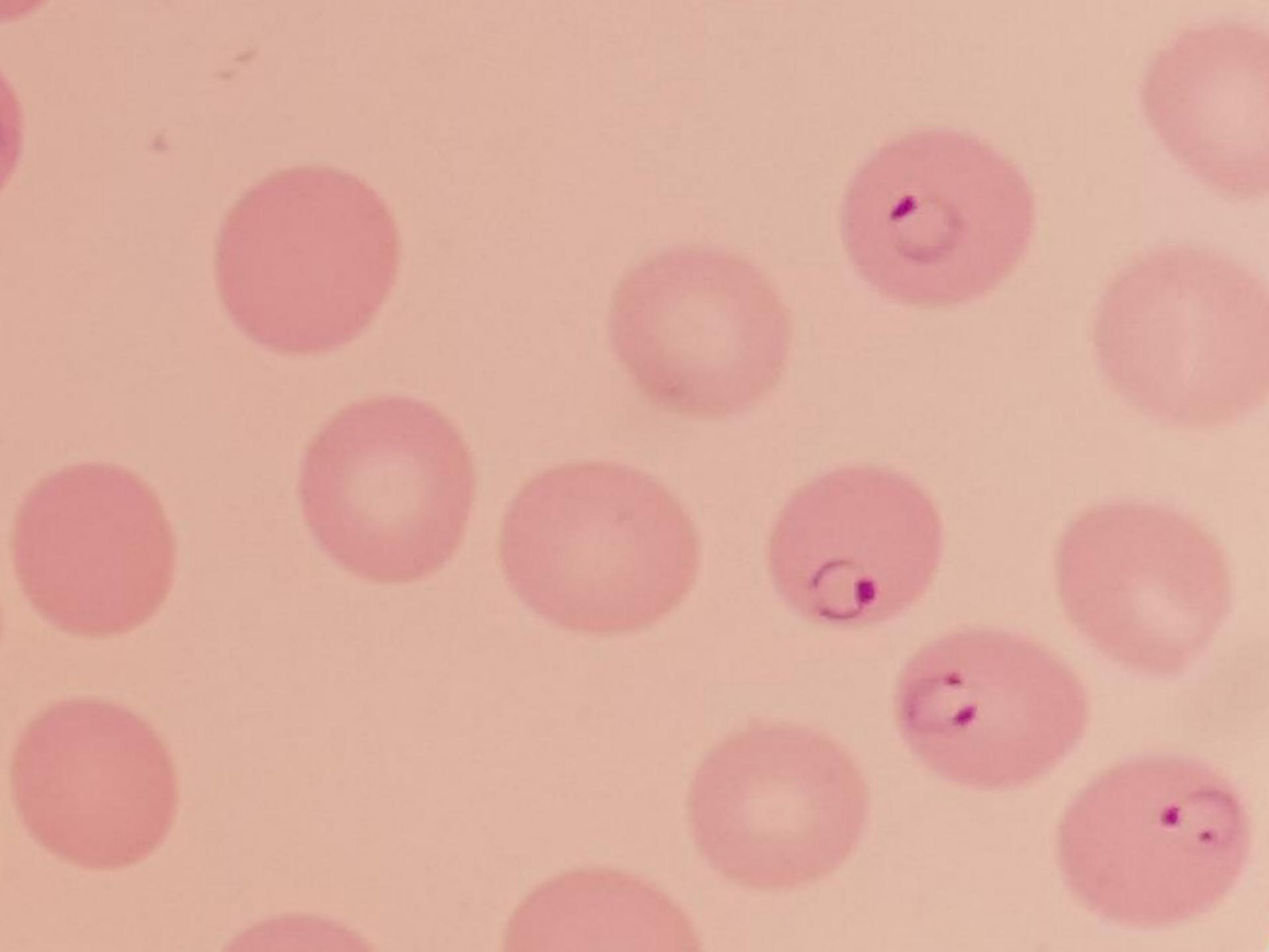Infected: (839, 129, 1038, 307), (1059, 755, 1255, 930), (894, 628, 1090, 793), (768, 463, 944, 626)
Uninfected: (216, 167, 397, 352), (506, 463, 697, 631), (606, 245, 784, 418), (299, 399, 469, 579), (689, 720, 869, 887), (1100, 250, 1269, 427), (1059, 501, 1228, 673), (17, 459, 173, 635), (12, 701, 174, 869), (1142, 30, 1269, 199)
